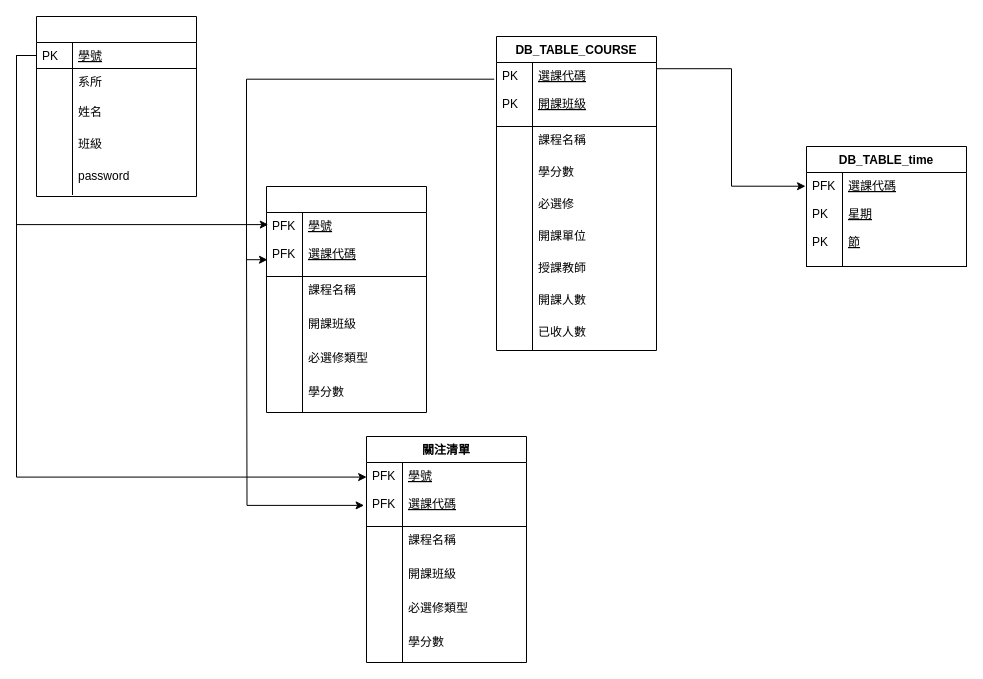
Image size: 983x679. Some labels were removed from this diagram. The shapes that lost their labels are listed below. From the top down, each one's box as (x1, y1, x2, y2) in pixels, then its label:
(36, 16, 196, 196): 學生
(266, 186, 426, 412): 預選課表
